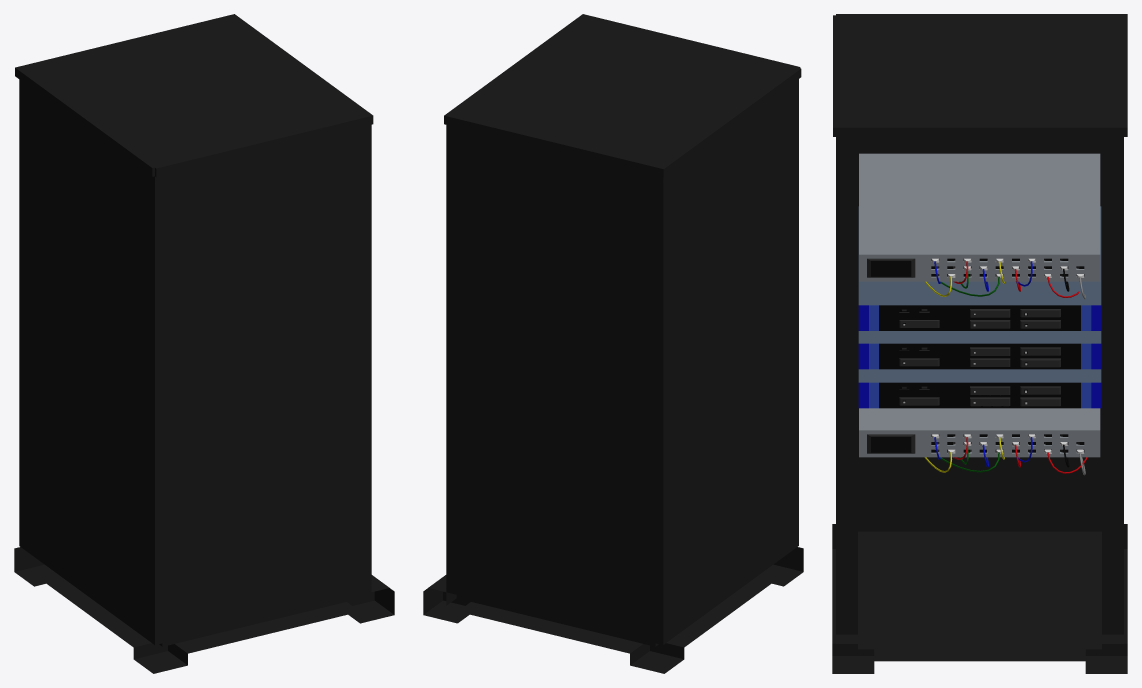
File: server.obj
3 views of the same model, side by side, from view 1: azimuth 30°, elevation 25°; view 2: azimuth 150°, elevation 25°; view 3: azimuth 270°, elevation 25° (orthographic). The views are drawn at different scales.
Visible parts, largest first — view 1: Cube; view 2: Cube; view 3: Cube, Cube.003, Cube.002, Cube.030, Cube.005, Cube.004.
Part boxes in pixels (bbox=[...]): Cube: bbox=[14, 14, 394, 673]; Cube: bbox=[423, 14, 803, 673]; Cube: bbox=[832, 14, 1127, 673]; Cube.003: bbox=[859, 153, 1100, 281]; Cube.002: bbox=[858, 206, 1101, 330]; Cube.030: bbox=[859, 408, 1100, 457]; Cube.005: bbox=[858, 369, 1101, 408]; Cube.004: bbox=[858, 331, 1101, 369].
Bounding box in the file's own units: 3.53 × 7.05 × 3.53.
